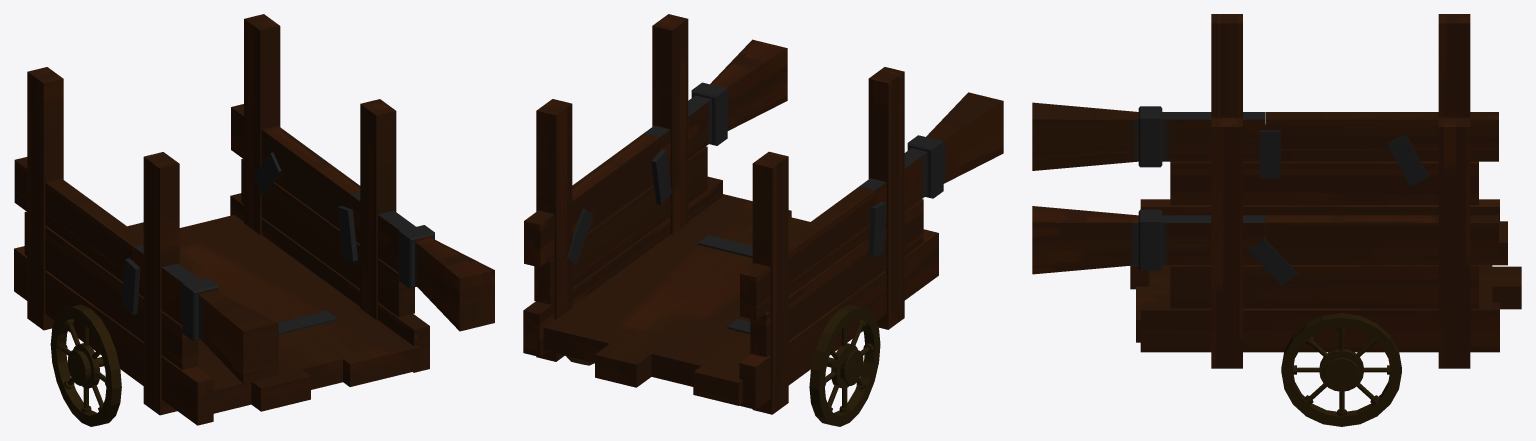
File: cratA_textured.fbx
The picture shows the model from 3 angles, left to right: view 1: azimuth 30°, elevation 25°; view 2: azimuth 150°, elevation 25°; view 3: azimuth 270°, elevation 25°; orthographic projection. The views are drawn at different scales.
Parts seen in each view (by area): view 1: pCube29, pCube30, pCube27, pCylinder14; view 2: pCube29, pCube30, pCube27, pCylinder14; view 3: pCube30, pCube29, pCylinder14, pCube27.
Boxes of the visible parts, x1,y1,x2,y2 form: pCube29: (14, 67, 278, 425); pCube30: (230, 14, 494, 372); pCube27: (127, 215, 419, 413); pCylinder14: (50, 304, 121, 426); pCube29: (739, 67, 1003, 414); pCube30: (523, 14, 787, 361); pCube27: (543, 194, 809, 405); pCylinder14: (566, 304, 880, 426); pCube30: (1032, 117, 1499, 368); pCube29: (1032, 14, 1499, 222); pCylinder14: (1281, 313, 1401, 426); pCube27: (1130, 221, 1521, 342).
Size of the model in its own units: 8.11 by 8.58 by 12.95.
Materials: 4 (3 with a texture image).
